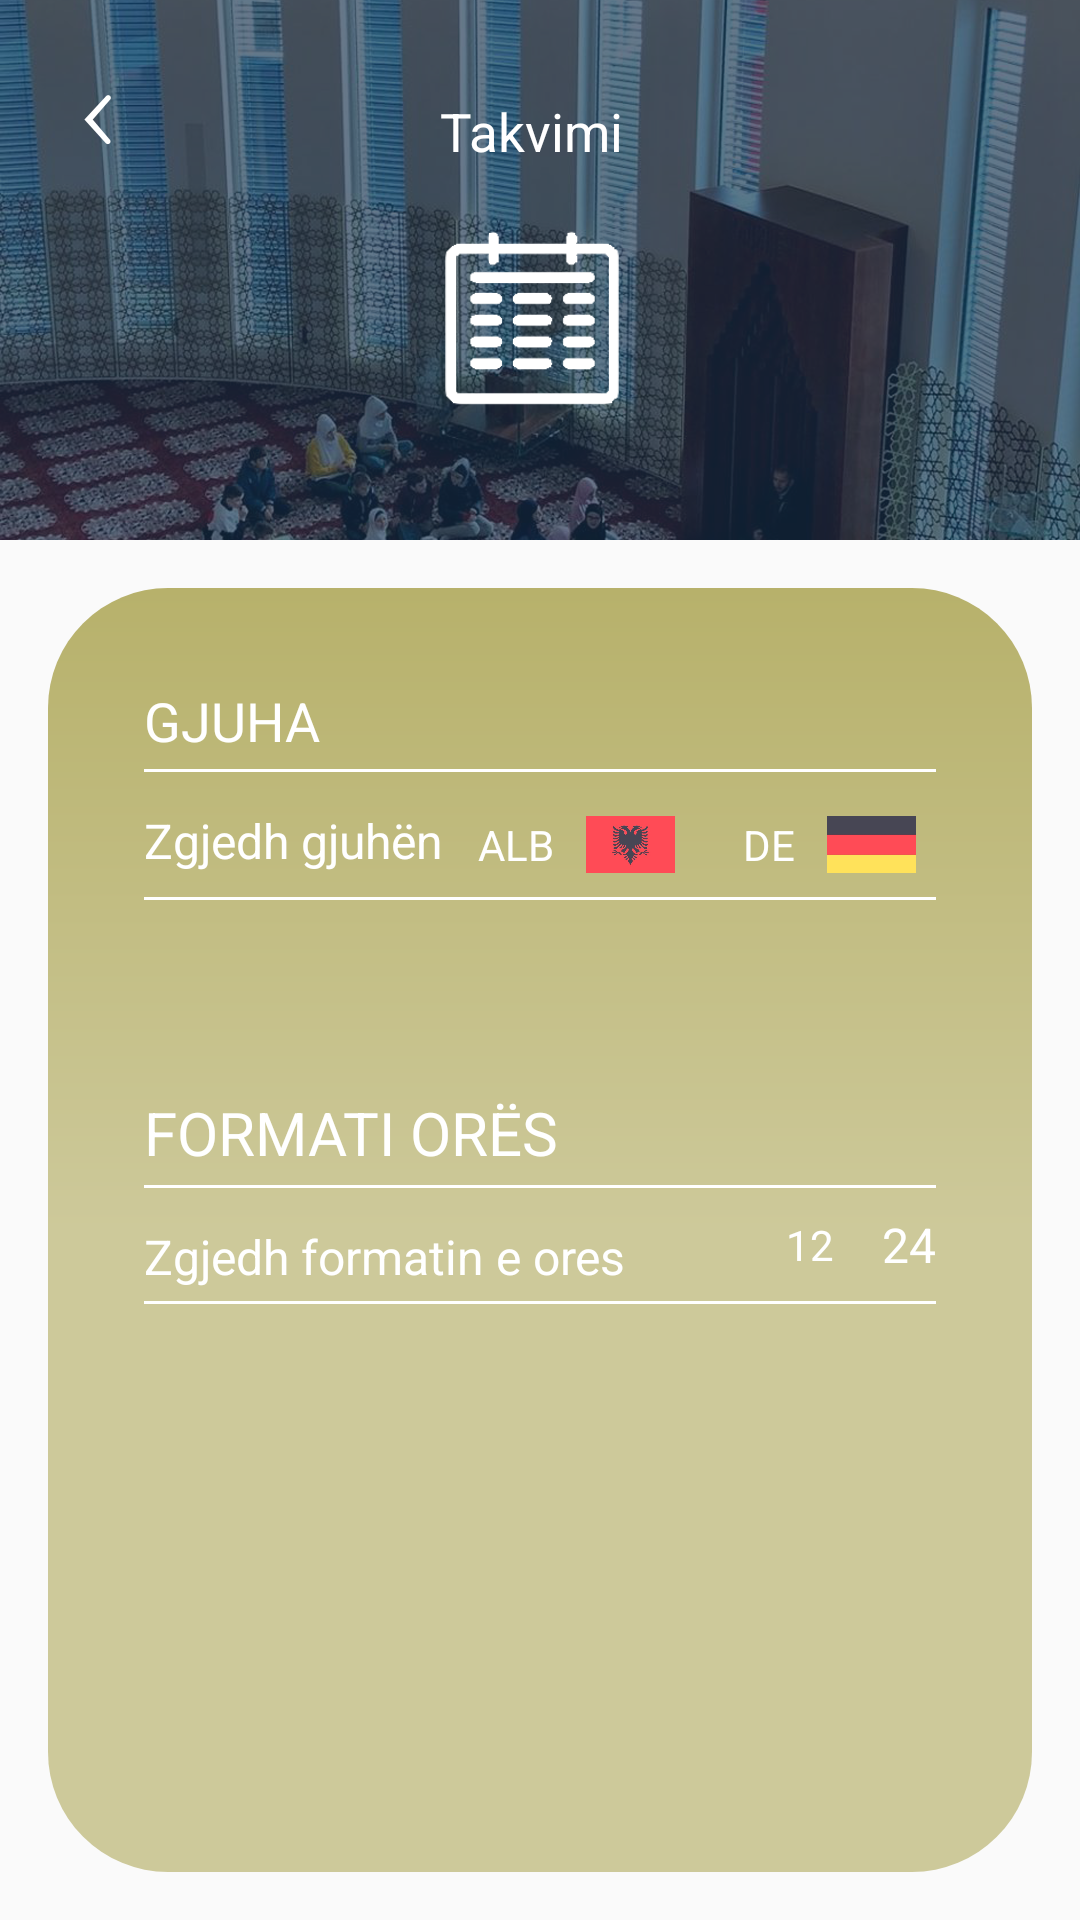

Point at icon controls on the screen. Image size 1080px x 1920px, points as point (x, y).
flag alb: point (630, 844)
flag de: point (871, 844)
kalender: point (532, 318)
